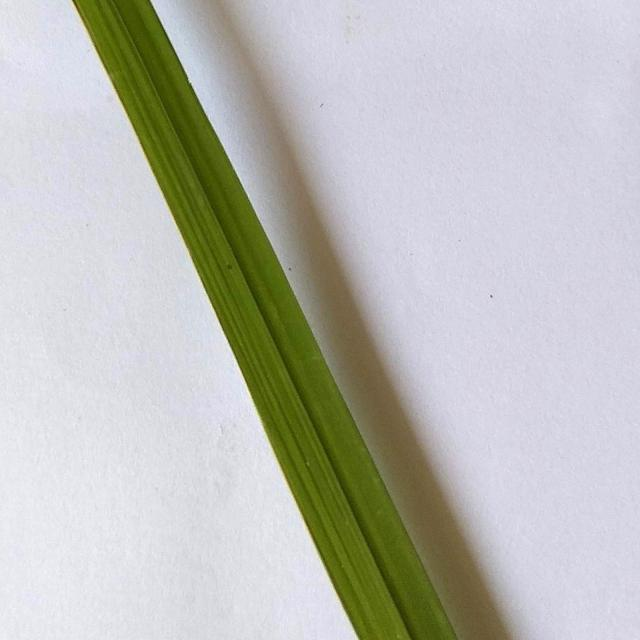healthy: (58, 1, 458, 640)
